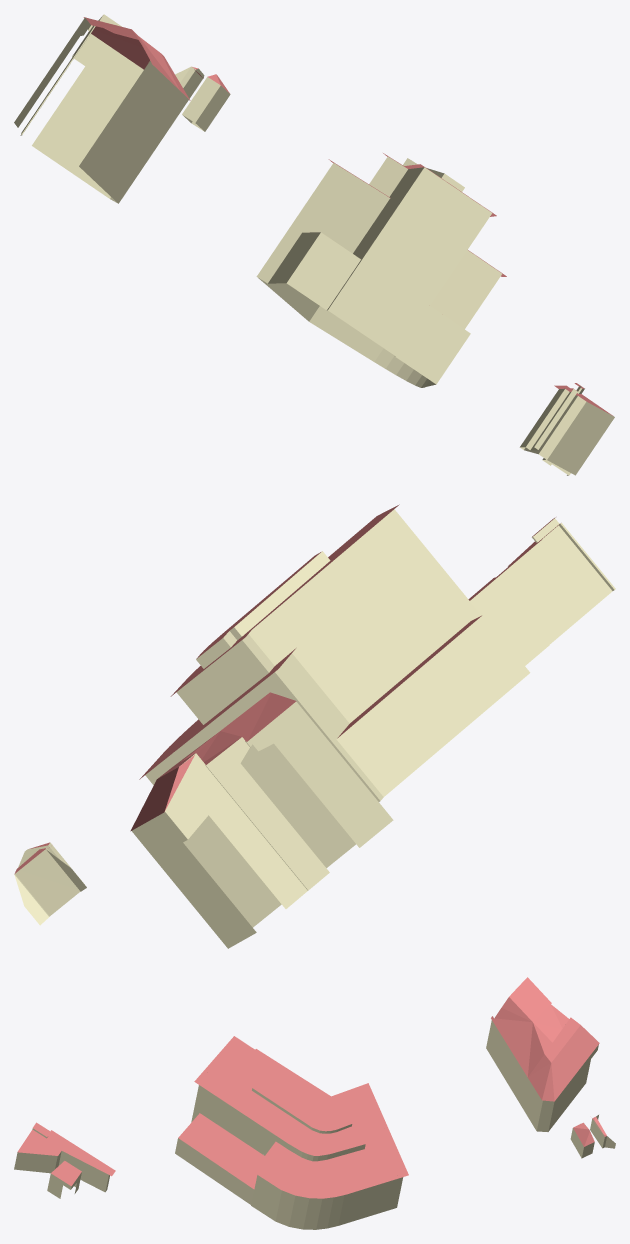
File: tile_059.glb
The picture shows the model from 3 angles, top to bottom: view 1: azimuth 30°, elevation 25°; view 2: azimuth 150°, elevation 25°; view 3: azimuth 270°, elevation 25°; orthographic projection. The views are drawn at different scales.
Parts seen in each view (by area): view 1: Batched_Building_ID_D7F58A13-51D4-46B4-8341-0C908AEEDD32; view 2: Batched_Building_ID_D7F58A13-51D4-46B4-8341-0C908AEEDD32; view 3: Batched_Building_ID_D7F58A13-51D4-46B4-8341-0C908AEEDD32.
Boxes of the visible parts, <box> form: Batched_Building_ID_D7F58A13-51D4-46B4-8341-0C908AEEDD32: <box>14,14,614,475</box>; Batched_Building_ID_D7F58A13-51D4-46B4-8341-0C908AEEDD32: <box>14,504,615,948</box>; Batched_Building_ID_D7F58A13-51D4-46B4-8341-0C908AEEDD32: <box>14,977,615,1229</box>.
Size of the model in its own units: 68.72 by 58.44 by 161.
